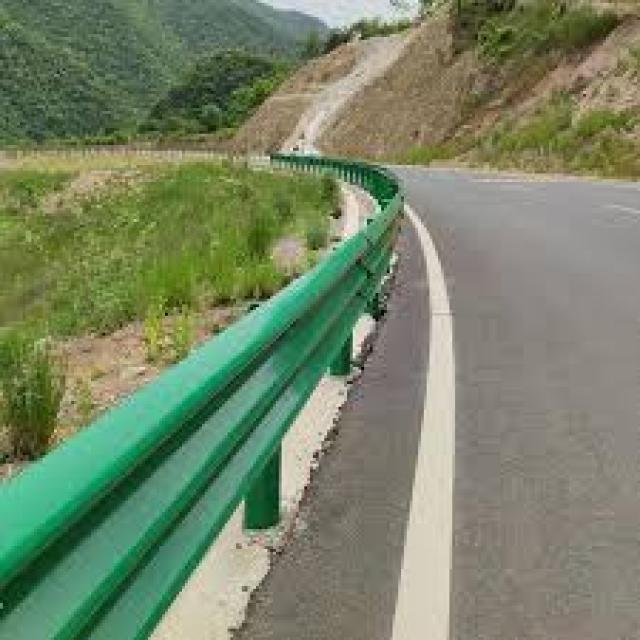Guard rail: (0, 162, 409, 640)
